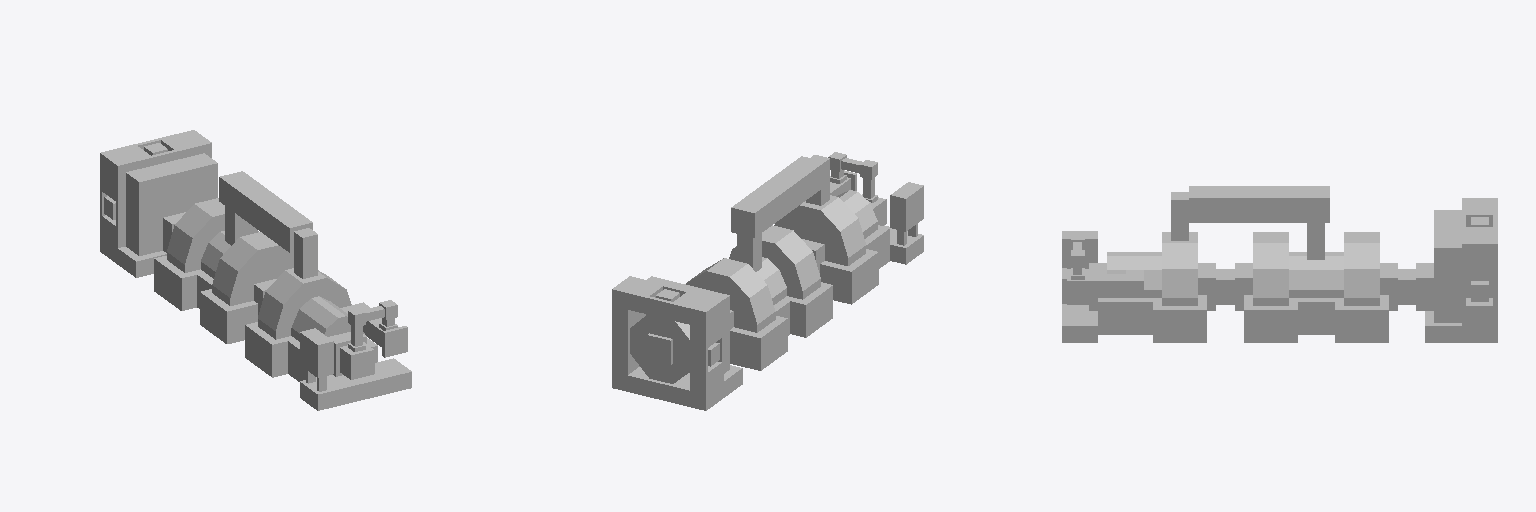
File: steam_turbine_mirrored.obj
3 renders of one model, left to right at view 1: azimuth 30°, elevation 25°; view 2: azimuth 150°, elevation 25°; view 3: azimuth 270°, elevation 25°, orthographic.
Visible parts, largest first — view 1: base; view 2: base; view 3: base.
Boxes of the visible parts, x1=… form: base: x1=100, y1=130, x2=411, y2=410; base: x1=612, y1=152, x2=923, y2=410; base: x1=1062, y1=186, x2=1497, y2=342.
Bounding box in the file's own units: 3 × 3.88 × 12.